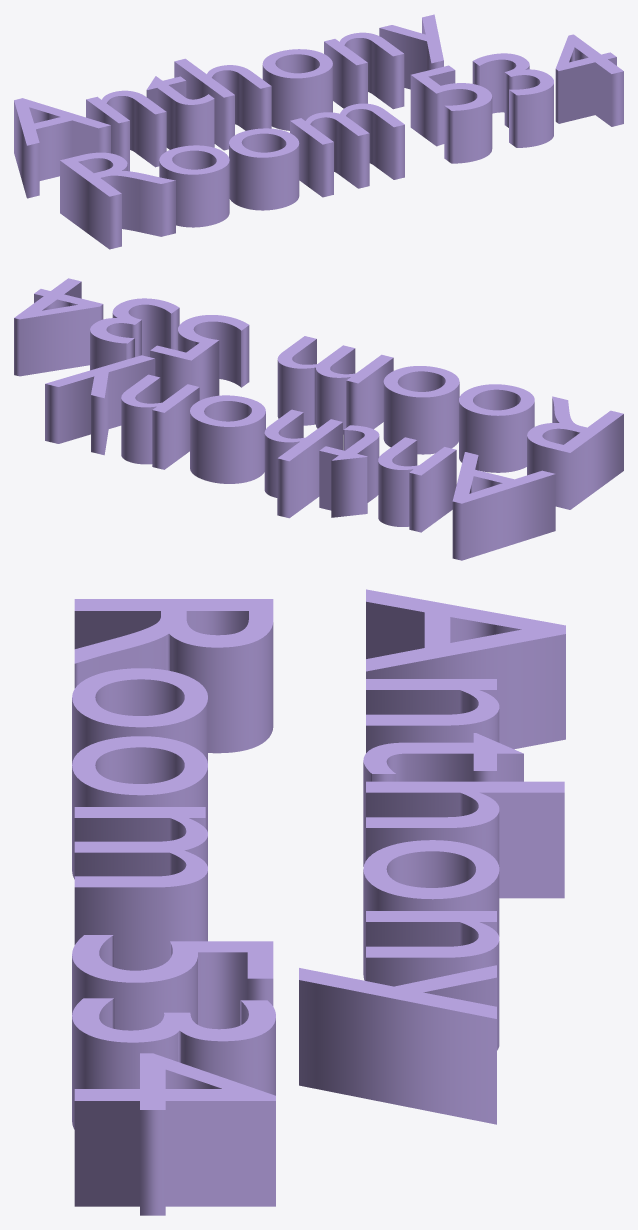
Rendered from anthony-534.gltf.
The picture shows the model from 3 angles, top to bottom: view 1: azimuth 30°, elevation 25°; view 2: azimuth 150°, elevation 25°; view 3: azimuth 270°, elevation 25°; orthographic projection. The views are drawn at different scales.
Visible parts, largest first — view 1: Text; view 2: Text; view 3: Text.
Part boxes in pixels (bbox=[...]): Text: bbox=[14, 14, 623, 249]; Text: bbox=[14, 278, 623, 560]; Text: bbox=[72, 589, 565, 1215].
Size of the model in its own units: 4.23 by 0.4 by 1.69.
